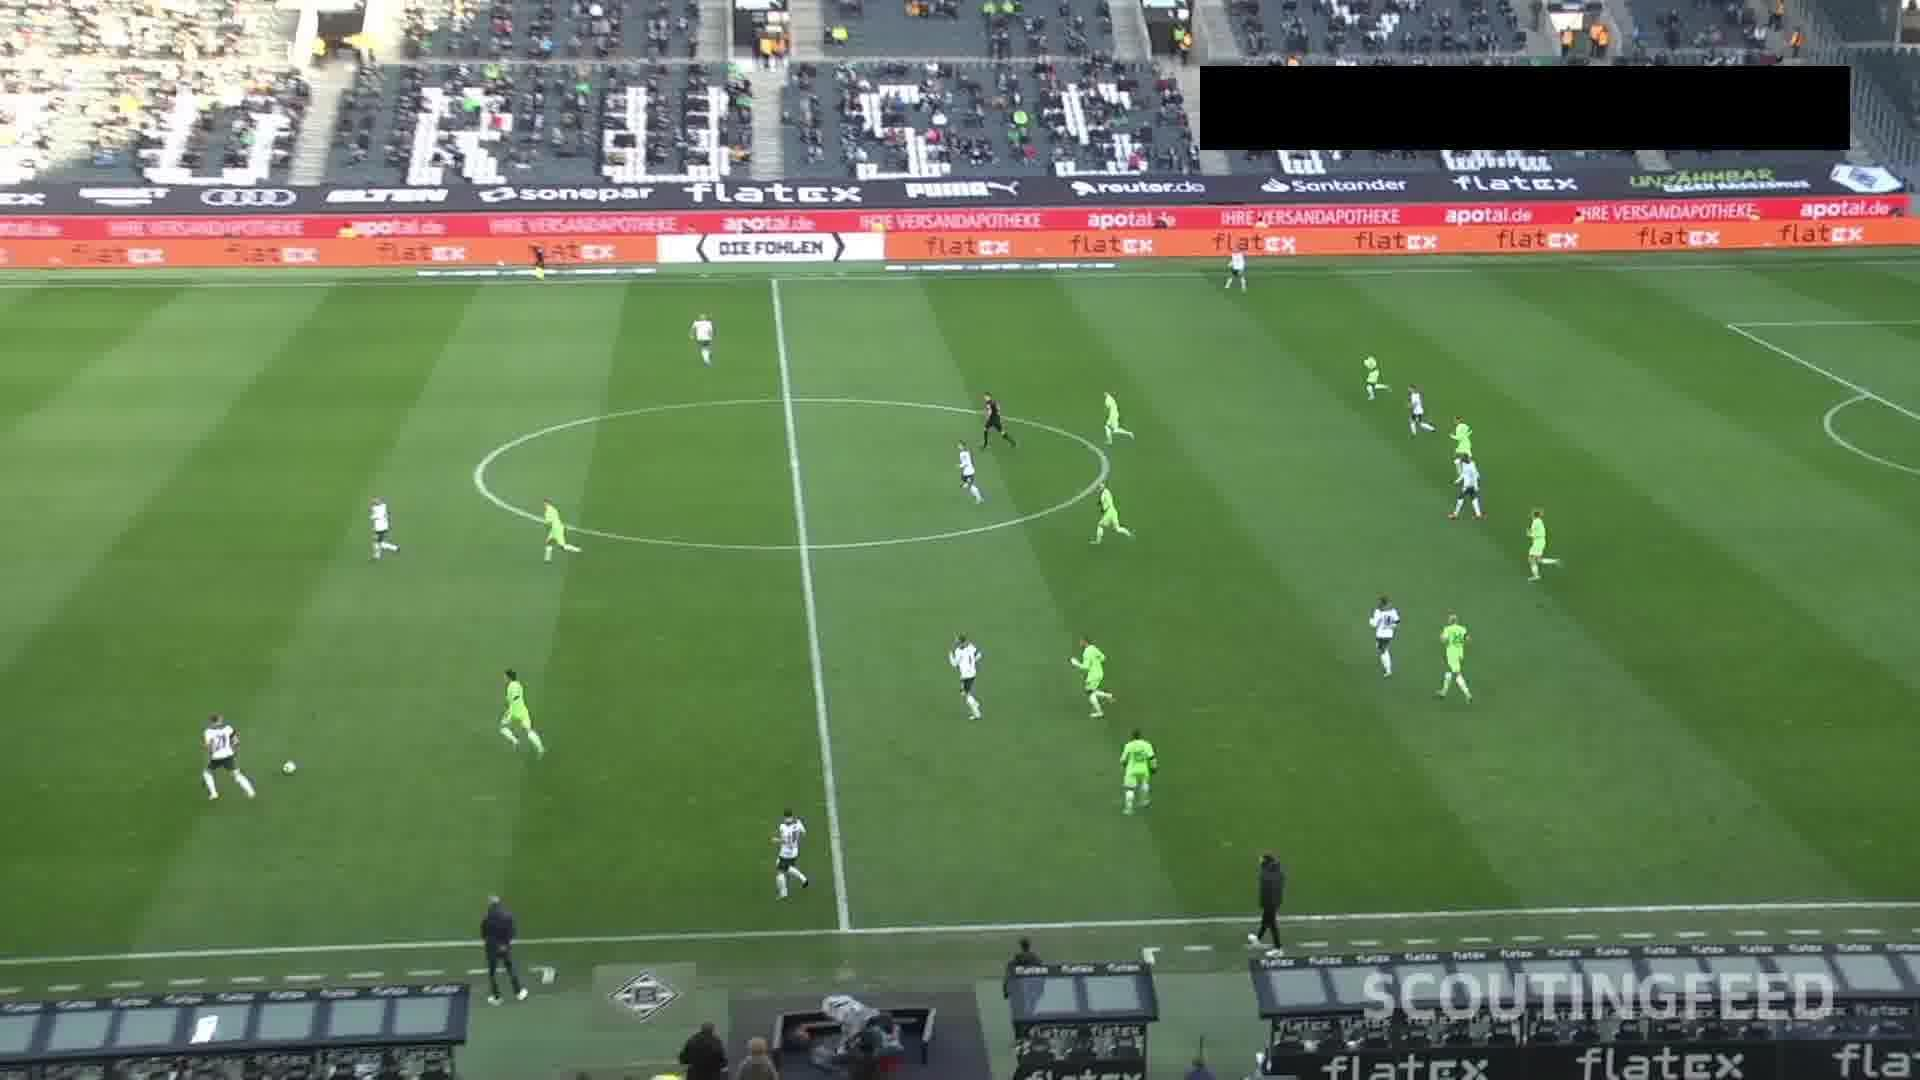football: (282, 760, 297, 777)
